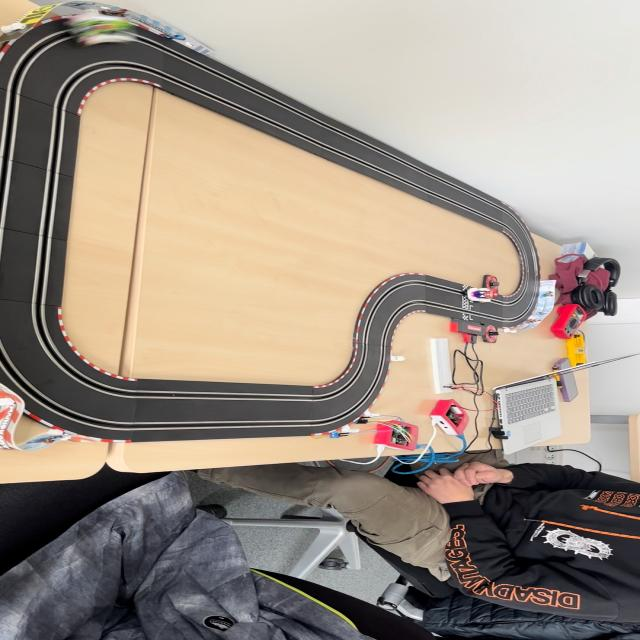mario: (462, 286, 502, 304)
yoshi: (64, 11, 142, 47)
